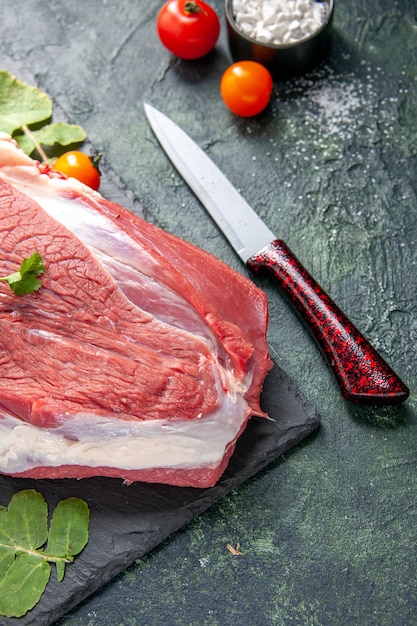knife: (145, 102, 411, 409)
